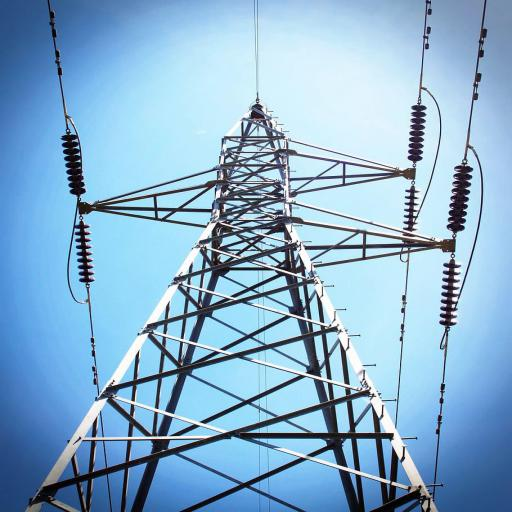ss_4: (24, 90, 442, 511)
